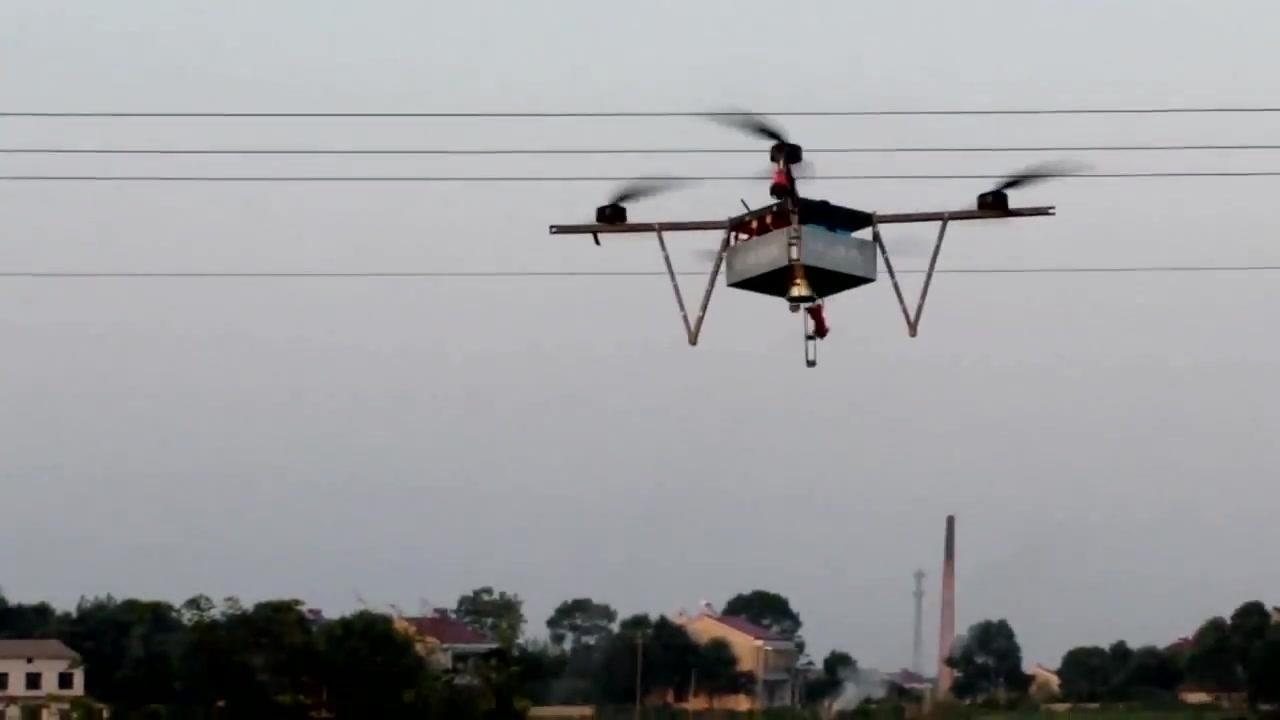UAV: (548, 107, 1098, 370)
